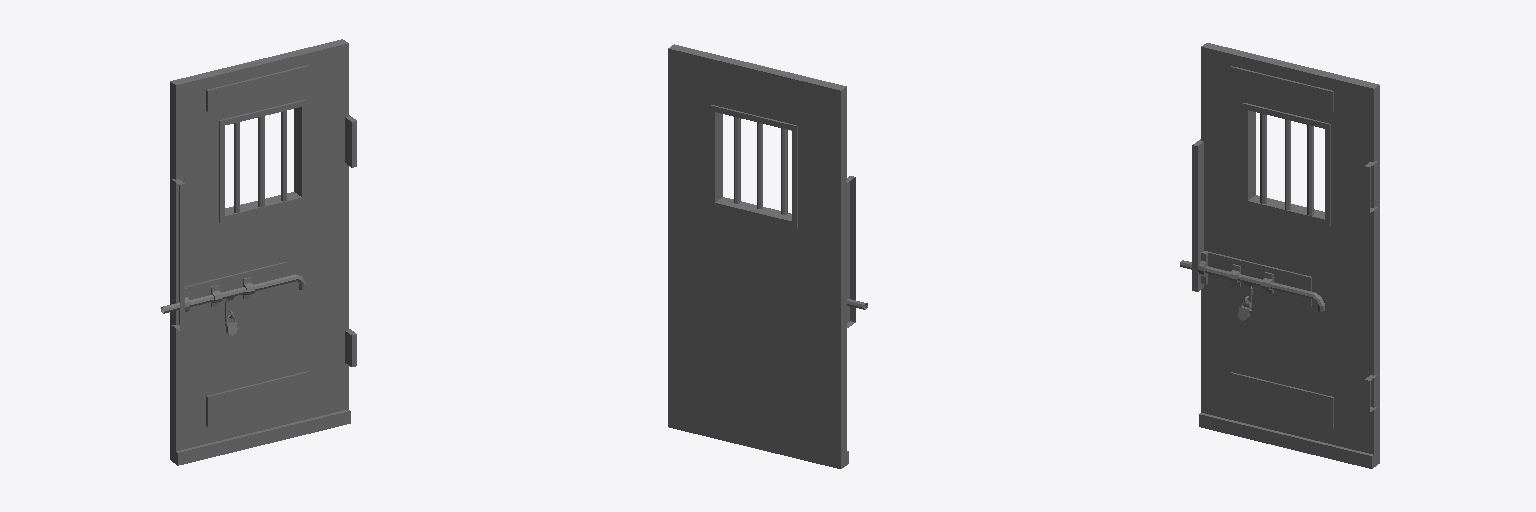
File: jail_door.obj
3 views of the same model, side by side, from view 1: azimuth 30°, elevation 25°; view 2: azimuth 150°, elevation 25°; view 3: azimuth 330°, elevation 25° (orthographic).
Visible parts, largest first — view 1: door_lp; view 2: door_lp; view 3: door_lp.
Part boxes in pixels (x1,y1,x2,y2): door_lp: (161,39,356,465); door_lp: (668,44,867,468); door_lp: (1180,43,1379,468).
Bounding box in the file's own units: 111 × 210 × 15.19.